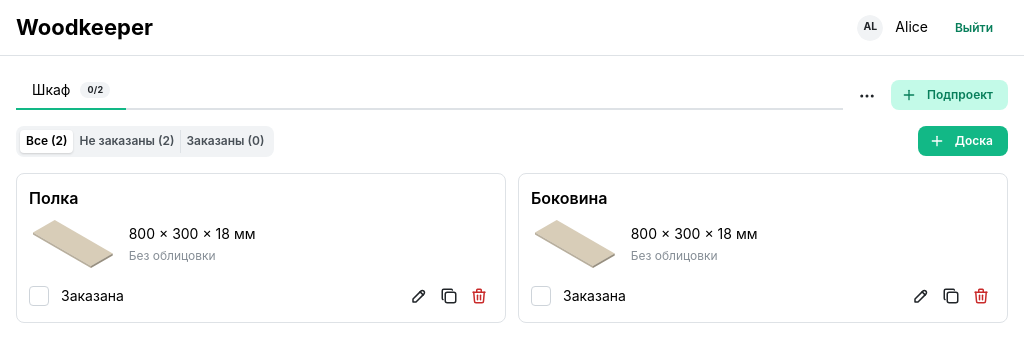
it: BoardCard › marks a board as ordered with PATCH and moves it down
The width and height of the screenshot is (1024, 340).
Click the checkbox labelled "Заказана" below "Полка" at (39, 296), box [29,286,49,306]
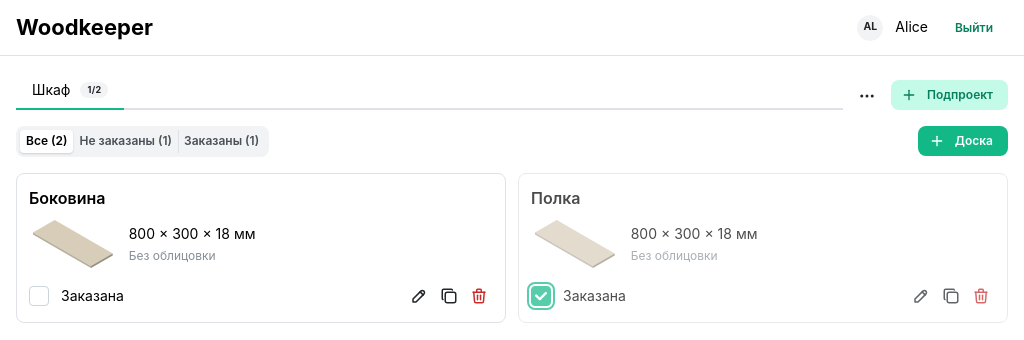
Expected: the text "1/2" is shown, [88,83,101,97]
